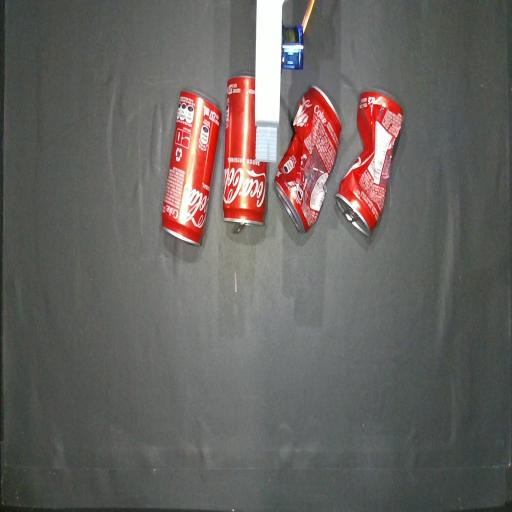lata: (162, 89, 221, 245), (222, 74, 266, 232)
lata_defectuoso: (274, 86, 341, 233), (336, 91, 403, 236)
